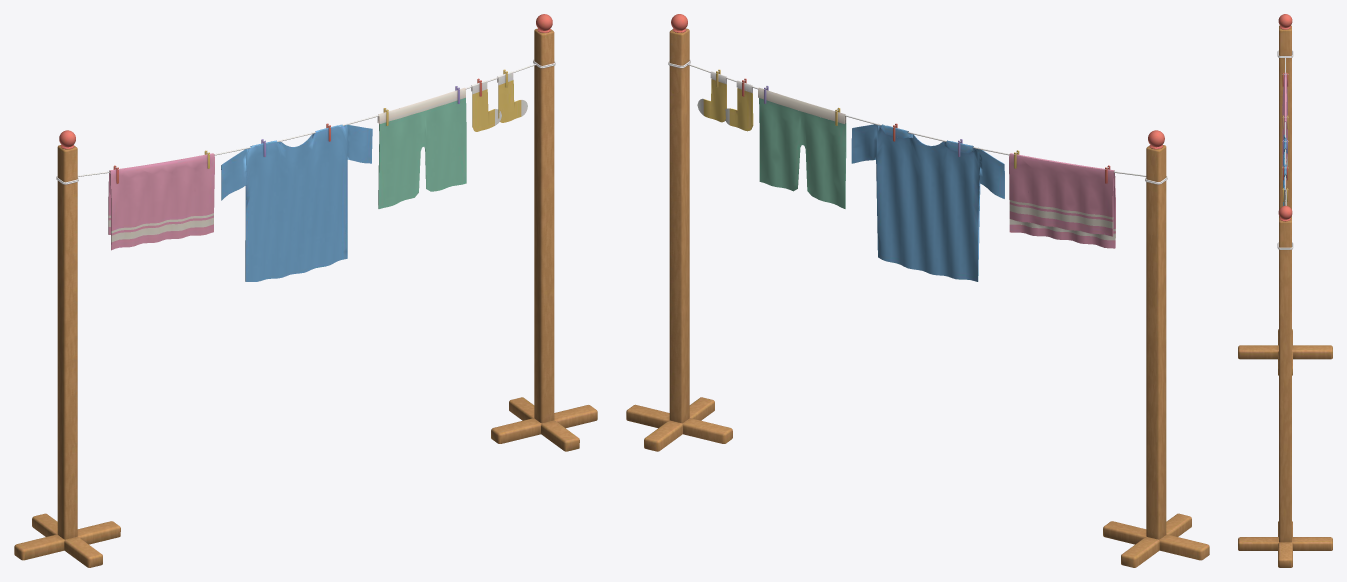
File: jemuran.glb
The picture shows the model from 3 angles, left to right: view 1: azimuth 30°, elevation 25°; view 2: azimuth 150°, elevation 25°; view 3: azimuth 270°, elevation 25°; orthographic projection. The views are drawn at different scales.
Visible parts, largest first — view 1: clothesline_body; view 2: clothesline_body; view 3: clothesline_body.
Part boxes in pixels (x1,y1,x2,y2): clothesline_body: [14, 14, 597, 567]; clothesline_body: [626, 14, 1209, 567]; clothesline_body: [1238, 14, 1332, 567].
Size of the model in its own units: 2.66 by 1.83 by 0.46.
1 material, 1 textured.
